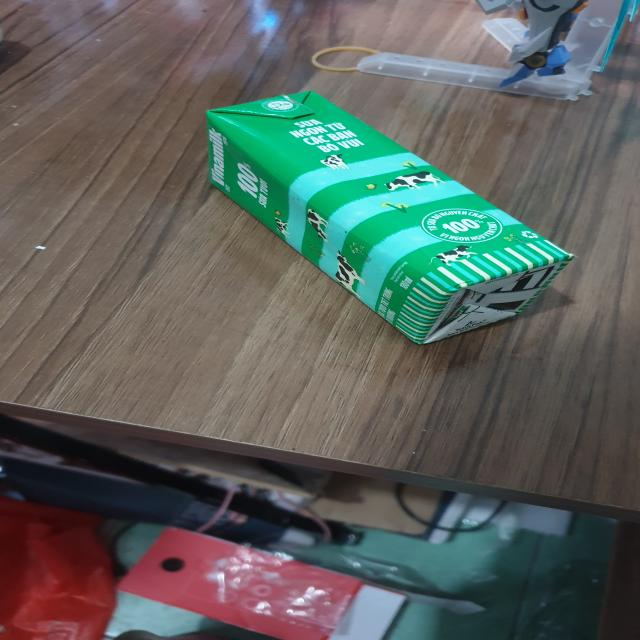Vina: (206, 90, 580, 348)
